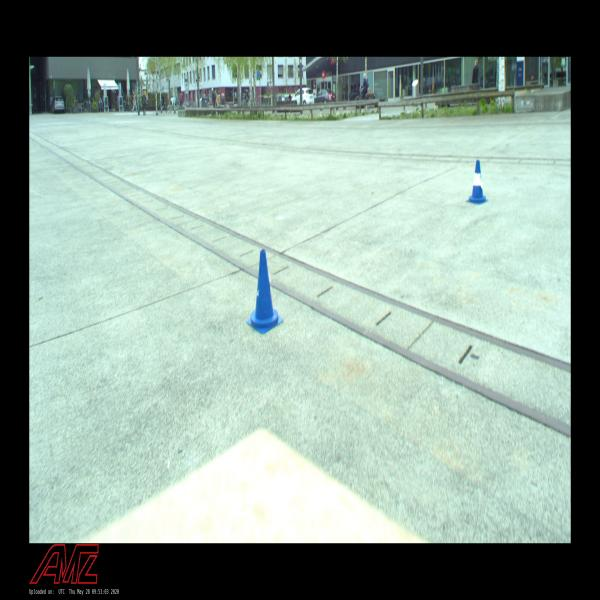blue_cone: (247, 249, 283, 332), (466, 160, 489, 204)
